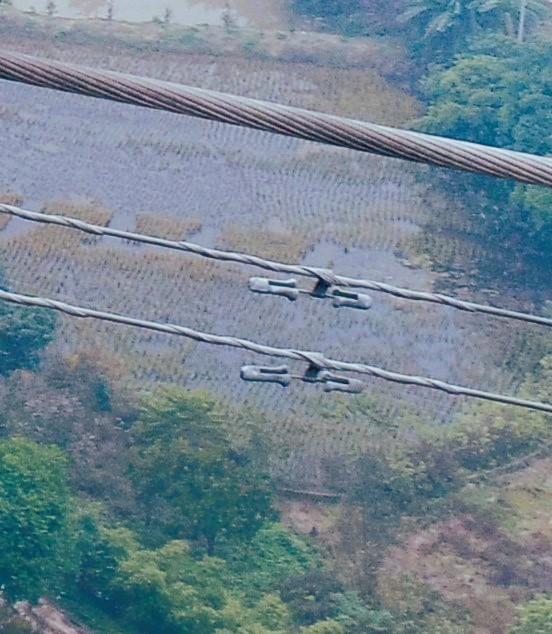Shockproof hammer: (243, 254, 377, 320), (237, 340, 368, 401)
